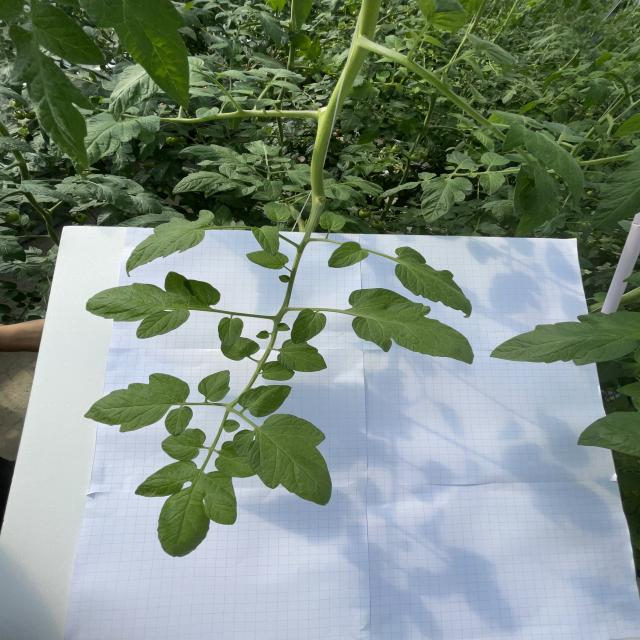Healthy Leaf: (7, 2, 107, 173), (79, 0, 190, 111), (134, 460, 237, 558), (348, 288, 475, 365), (85, 270, 221, 339), (233, 413, 332, 506), (490, 311, 640, 366), (503, 122, 584, 210), (84, 373, 194, 437), (125, 209, 221, 277), (395, 246, 473, 319), (71, 113, 160, 175), (590, 144, 640, 230), (109, 64, 162, 122), (419, 177, 473, 224), (237, 384, 293, 418), (16, 179, 80, 207), (277, 338, 328, 372), (172, 170, 243, 194), (215, 440, 258, 478), (92, 182, 139, 214), (162, 428, 206, 461), (178, 144, 246, 164), (291, 308, 327, 344), (542, 120, 596, 143), (113, 211, 184, 228), (328, 241, 369, 268), (376, 181, 419, 206), (198, 369, 230, 402), (255, 11, 282, 50), (221, 337, 260, 361), (251, 225, 280, 257), (245, 250, 289, 270), (328, 185, 367, 207), (534, 168, 554, 210), (259, 67, 307, 84), (218, 317, 244, 348), (533, 214, 565, 238), (446, 150, 484, 170), (343, 175, 384, 193), (98, 174, 144, 190), (130, 192, 162, 214), (340, 108, 366, 135), (262, 361, 296, 381), (479, 172, 506, 196), (244, 140, 282, 156), (264, 201, 290, 223), (319, 210, 346, 231), (471, 129, 495, 152), (262, 179, 284, 201), (480, 151, 510, 166), (267, 80, 302, 92), (214, 70, 247, 82), (214, 204, 231, 227), (385, 34, 407, 51), (195, 106, 220, 120), (342, 142, 377, 152), (480, 222, 505, 235), (255, 98, 281, 110), (479, 199, 513, 208), (234, 186, 256, 198), (288, 173, 308, 186), (249, 128, 267, 142), (199, 128, 224, 138), (219, 95, 249, 103), (240, 69, 268, 77), (282, 185, 305, 193), (588, 70, 607, 78), (418, 172, 436, 180), (230, 89, 253, 95), (273, 156, 292, 162), (251, 180, 263, 188), (281, 162, 291, 169)
